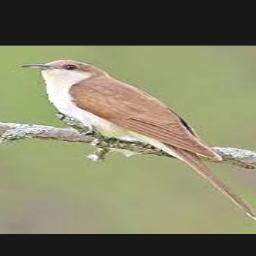Cuckoo: (20, 59, 256, 225)
